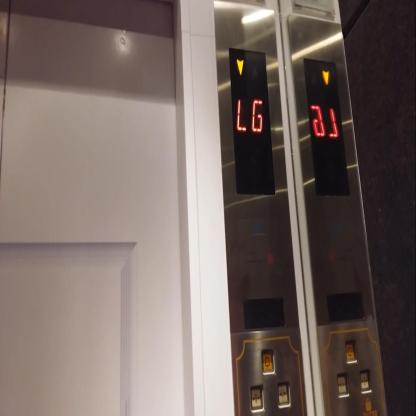alarm: (260, 348, 276, 375), (344, 337, 358, 364)
close: (249, 384, 265, 413), (358, 368, 373, 394)
led: (227, 43, 277, 196), (302, 54, 351, 198)
open: (276, 381, 291, 408), (336, 371, 350, 399)
